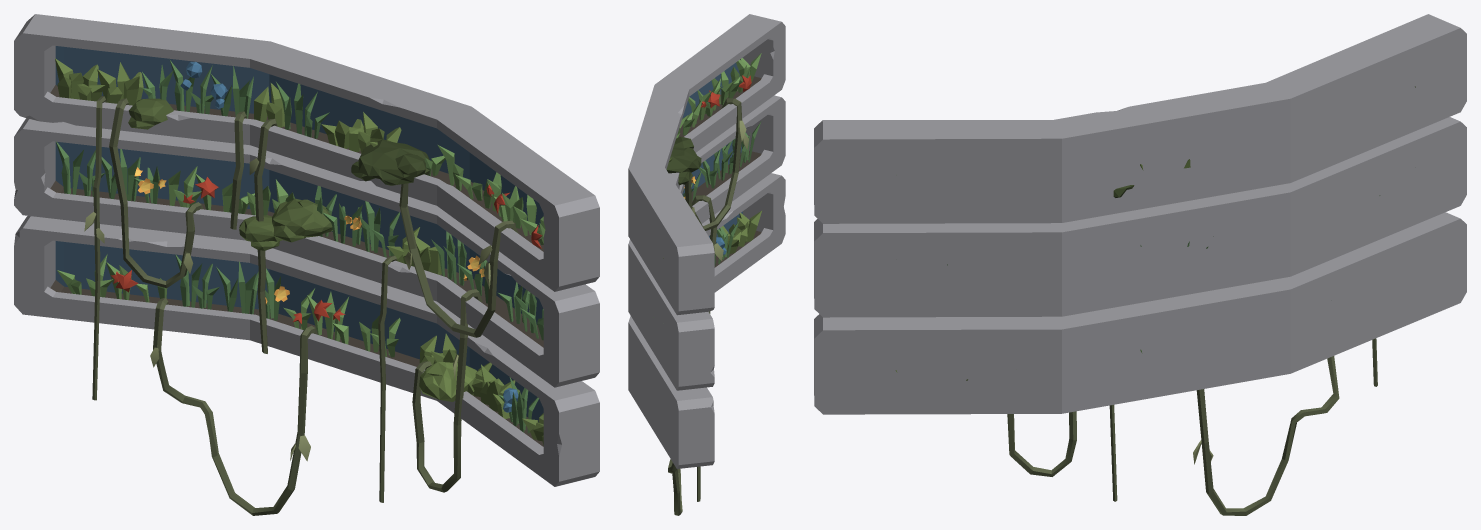
Rendered from SM_Bld_Hydroponics_WallPlantsUpper_L_01.fbx.
3 renders of one model, left to right at view 1: azimuth 30°, elevation 25°; view 2: azimuth 150°, elevation 25°; view 3: azimuth 270°, elevation 25°, orthographic. The views are drawn at different scales.
Visible parts, largest first — view 1: SM_Bld_Hydroponics_WallPlantsUpper_L_01_LOD0; view 2: SM_Bld_Hydroponics_WallPlantsUpper_L_01_LOD0; view 3: SM_Bld_Hydroponics_WallPlantsUpper_L_01_LOD0.
Boxes of the visible parts, bbox=[...] form: SM_Bld_Hydroponics_WallPlantsUpper_L_01_LOD0: bbox=[14, 14, 599, 515]; SM_Bld_Hydroponics_WallPlantsUpper_L_01_LOD0: bbox=[628, 14, 785, 515]; SM_Bld_Hydroponics_WallPlantsUpper_L_01_LOD0: bbox=[814, 14, 1466, 515].
Size of the model in its own units: 833 by 387 by 615.
Materials: 1 (1 with a texture image).
